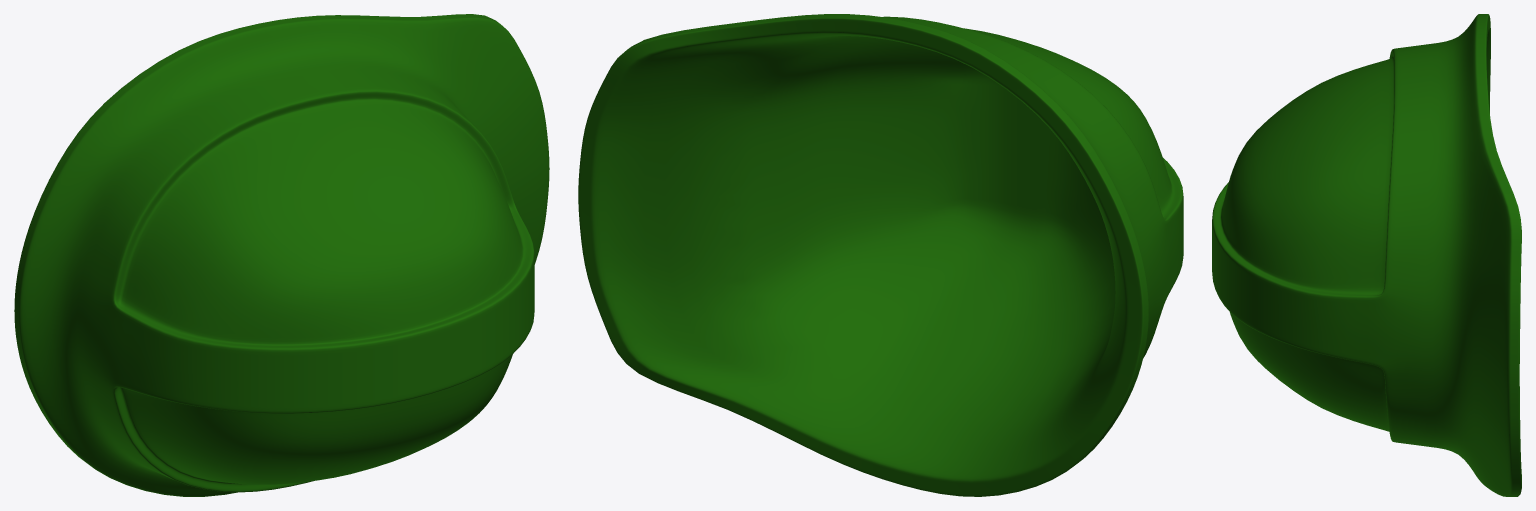
Rendered from HardHatGreen.fbx.
3 views of the same model, side by side, from view 1: azimuth 30°, elevation 25°; view 2: azimuth 150°, elevation 25°; view 3: azimuth 270°, elevation 25° (orthographic). The views are drawn at different scales.
Parts seen in each view (by area): view 1: 16617_Forestry_Safety_Hard_Hat_v1; view 2: 16617_Forestry_Safety_Hard_Hat_v1; view 3: 16617_Forestry_Safety_Hard_Hat_v1.
Boxes of the visible parts, x1,y1,x2,y2 form: 16617_Forestry_Safety_Hard_Hat_v1: (14, 14, 549, 496); 16617_Forestry_Safety_Hard_Hat_v1: (578, 14, 1183, 496); 16617_Forestry_Safety_Hard_Hat_v1: (1212, 14, 1521, 496).
Bounding box in the file's own units: 2670 × 2143 × 1486.
